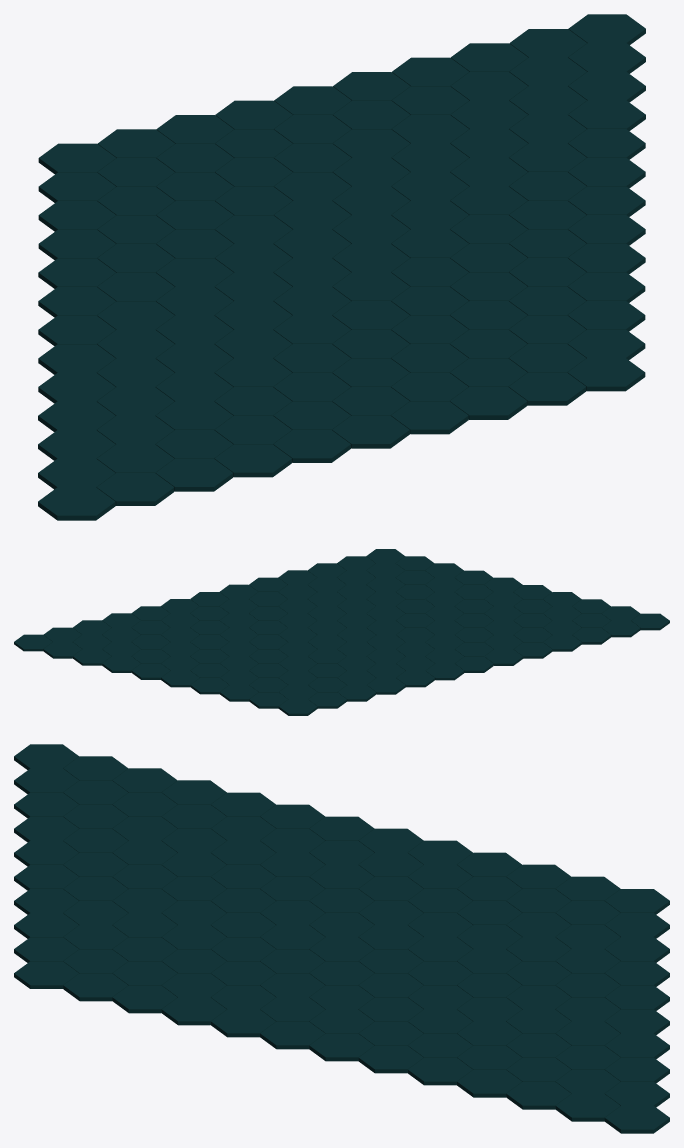
The model's file is floor.glb.
The picture shows the model from 3 angles, top to bottom: view 1: azimuth 30°, elevation 25°; view 2: azimuth 150°, elevation 25°; view 3: azimuth 270°, elevation 25°; orthographic projection. The views are drawn at different scales.
Parts seen in each view (by area): view 1: Cylinder.120, Cylinder.122, Cylinder.129, Cylinder.128, Cylinder.125, Cylinder.126, Cylinder.123, Cylinder.121, Cylinder.127, Cylinder.124, Cylinder.089, Cylinder.059 (+118 smaller); view 2: Cylinder, Cylinder.009, Cylinder.040, Cylinder.110, Cylinder.004, Cylinder.120, Cylinder.050, Cylinder.070, Cylinder.030, Cylinder.001, Cylinder.002, Cylinder.006 (+118 smaller); view 3: Cylinder.009, Cylinder.019, Cylinder.069, Cylinder.079, Cylinder.029, Cylinder.059, Cylinder.119, Cylinder.099, Cylinder.109, Cylinder.039, Cylinder.089, Cylinder.049 (+118 smaller).
Part boxes in pixels (<box>): Cylinder.120: <box>38,487,115,520</box>; Cylinder.122: <box>155,458,233,491</box>; Cylinder.129: <box>567,358,645,391</box>; Cylinder.128: <box>509,372,586,405</box>; Cylinder.125: <box>332,415,409,448</box>; Cylinder.126: <box>391,401,468,434</box>; Cylinder.123: <box>214,444,291,477</box>; Cylinder.121: <box>96,473,174,505</box>; Cylinder.127: <box>450,387,527,419</box>; Cylinder.124: <box>273,430,350,462</box>; Cylinder.089: <box>568,243,645,274</box>; Cylinder.059: <box>568,157,645,188</box>; Cylinder: <box>278,699,317,715</box>; Cylinder.009: <box>14,634,52,651</box>; Cylinder.040: <box>396,670,434,687</box>; Cylinder.110: <box>602,620,640,637</box>; Cylinder.004: <box>161,670,199,687</box>; Cylinder.120: <box>631,613,669,630</box>; Cylinder.050: <box>426,663,464,680</box>; Cylinder.070: <box>484,649,523,665</box>; Cylinder.030: <box>367,678,405,694</box>; Cylinder.001: <box>249,692,287,708</box>; Cylinder.002: <box>220,685,258,701</box>; Cylinder.006: <box>102,656,140,672</box>; Cylinder.009: <box>604,1105,669,1133</box>; Cylinder.019: <box>555,1093,620,1121</box>; Cylinder.069: <box>309,1033,374,1061</box>; Cylinder.079: <box>260,1021,325,1049</box>; Cylinder.029: <box>506,1081,571,1109</box>; Cylinder.059: <box>358,1045,423,1073</box>; Cylinder.119: <box>63,973,128,1001</box>; Cylinder.099: <box>161,997,226,1025</box>; Cylinder.109: <box>112,985,177,1013</box>; Cylinder.039: <box>457,1069,521,1097</box>; Cylinder.089: <box>211,1009,275,1037</box>; Cylinder.049: <box>408,1057,472,1085</box>.
Bounding box in the file's own units: 27.96 × 0.1335 × 20.12.
